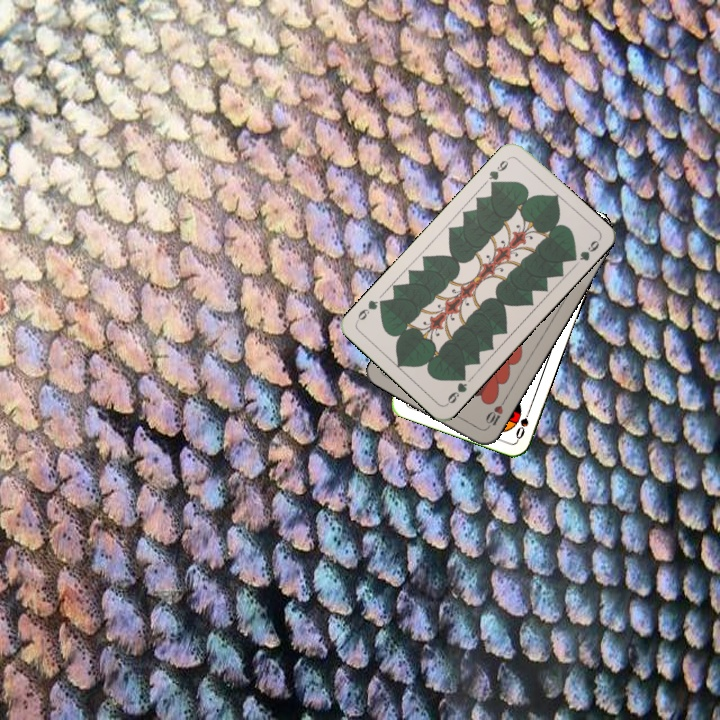G9: (443, 370, 470, 408), (485, 156, 511, 190)
H10: (481, 396, 508, 432)
SO: (512, 403, 534, 442)
